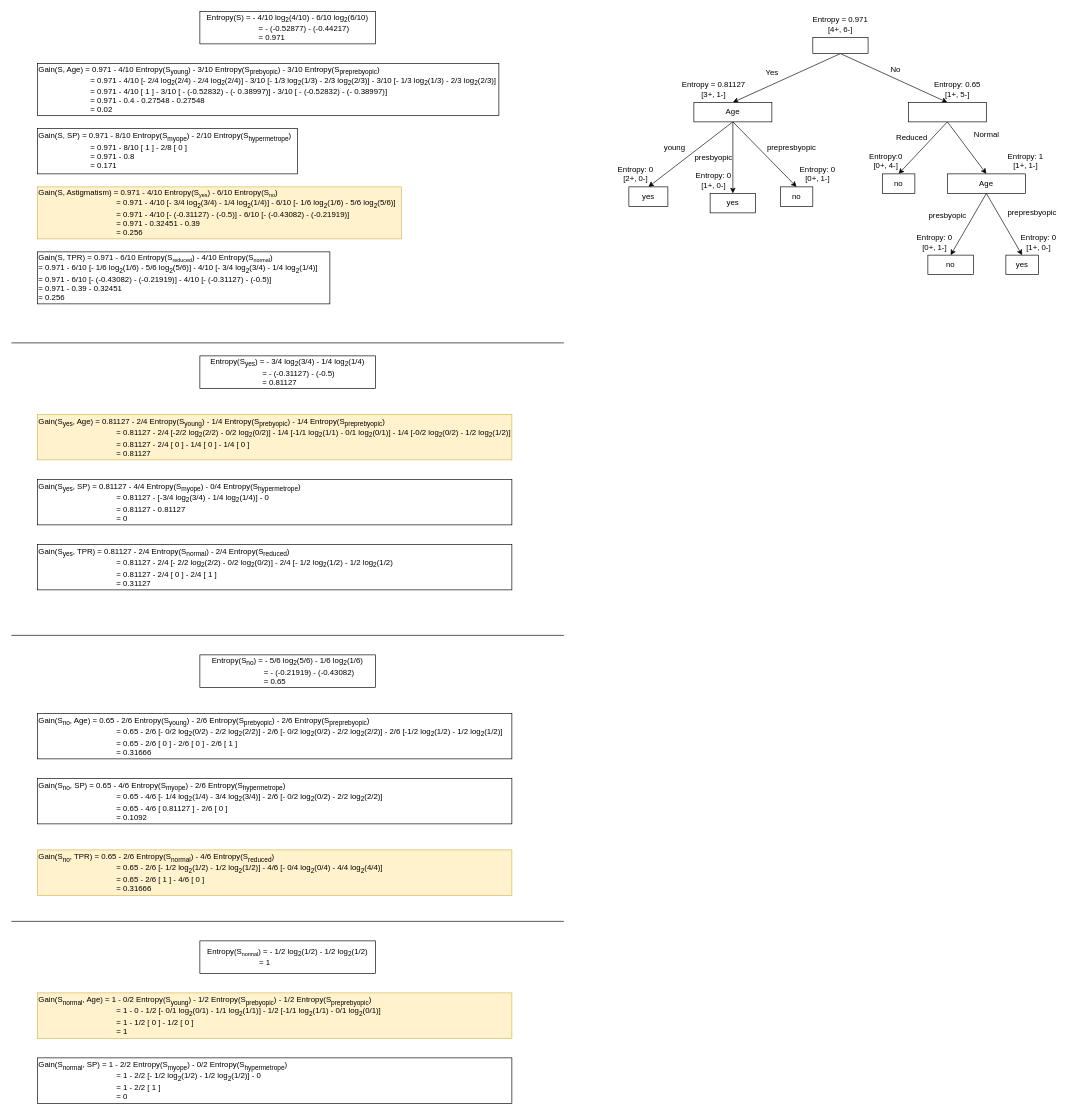
The diagram is 1076 pixels wide and 1115 high, and some of its shapes have lost their labels. Here are the shapes that lost their labels. From the top down, the box of each, then its label:
(812, 37, 868, 54): Astigmatism
(908, 102, 986, 122): Tear Production Rate
